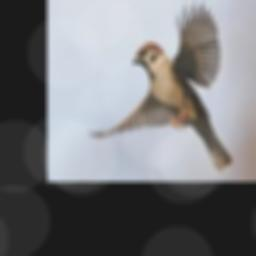Sparrow: (87, 0, 233, 172)
